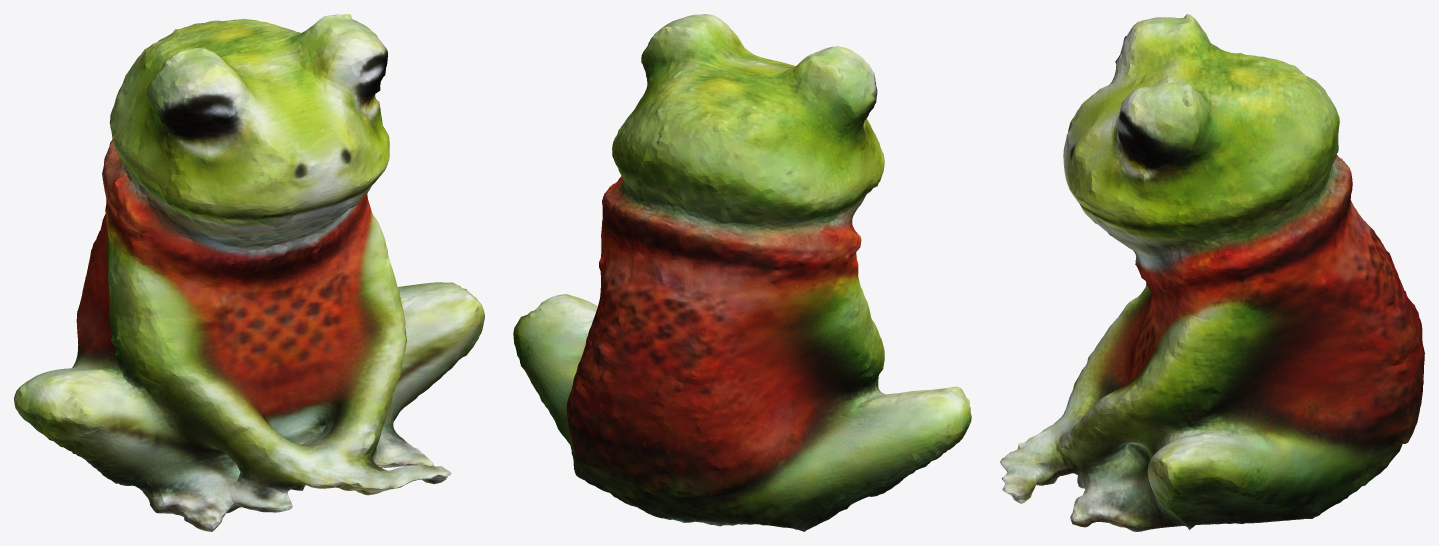
The model's file is frog.glb.
3 renders of one model, left to right at view 1: azimuth 30°, elevation 25°; view 2: azimuth 150°, elevation 25°; view 3: azimuth 270°, elevation 25°, orthographic. The views are drawn at different scales.
Size of the model in its own units: 1.01 by 0.9465 by 0.8468.
Materials: 1 (1 with a texture image).
